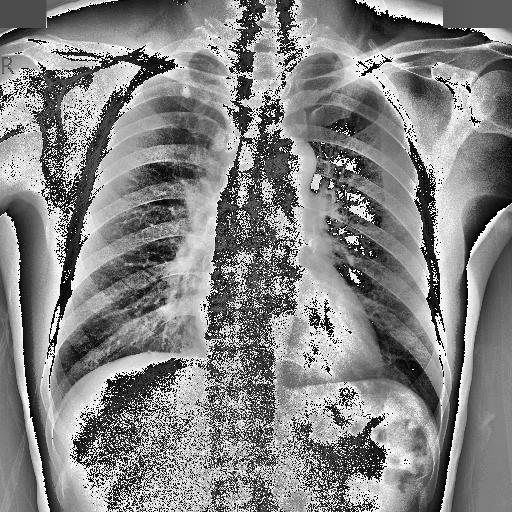0- Aortic enlargement: (254, 132, 314, 191), (260, 134, 316, 186)
11- Pleural thickening: (302, 52, 334, 60)
2- Calcification: (182, 85, 190, 98)
8- Nodule-Mass: (212, 132, 226, 151), (180, 80, 194, 99), (180, 84, 192, 98)
9- Other lesion: (212, 132, 226, 151), (180, 84, 192, 98)
